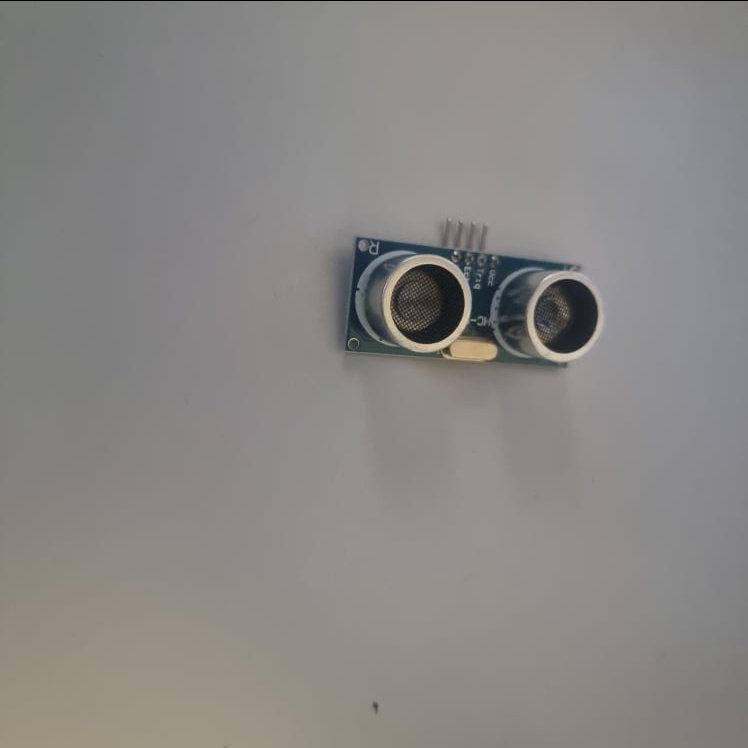SENSOR: (343, 231, 607, 371)
